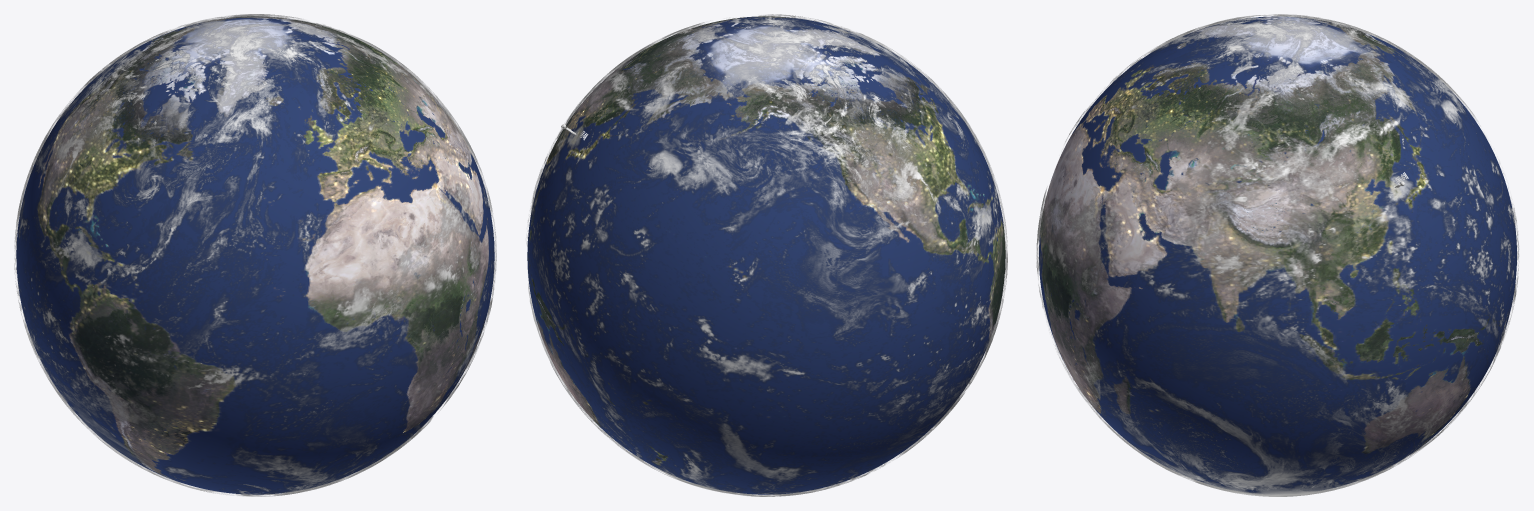
The model's file is Earth.glb.
3 renders of one model, left to right at view 1: azimuth 30°, elevation 25°; view 2: azimuth 150°, elevation 25°; view 3: azimuth 270°, elevation 25°, orthographic.
Visible parts, largest first — view 1: Earth, EarthClouds; view 2: Earth, EarthClouds; view 3: Earth, EarthClouds.
Boxes of the visible parts, <box> form: Earth: <box>16,16,494,494</box>; EarthClouds: <box>14,14,496,496</box>; Earth: <box>527,16,1005,494</box>; EarthClouds: <box>527,14,1007,496</box>; Earth: <box>1039,16,1516,493</box>; EarthClouds: <box>1036,14,1518,496</box>.
Size of the model in its own units: 10.1 by 10.1 by 10.1.
Materials: 4 (3 with a texture image).
